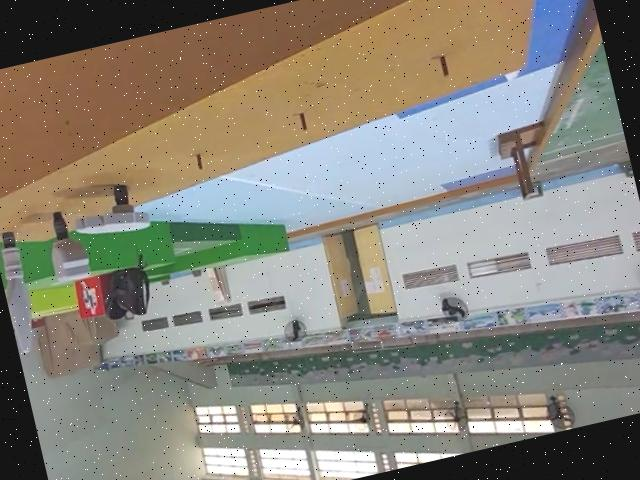Fist: (37, 206, 93, 286)
Hand: (65, 179, 150, 243)
Sph: (0, 227, 45, 356)
